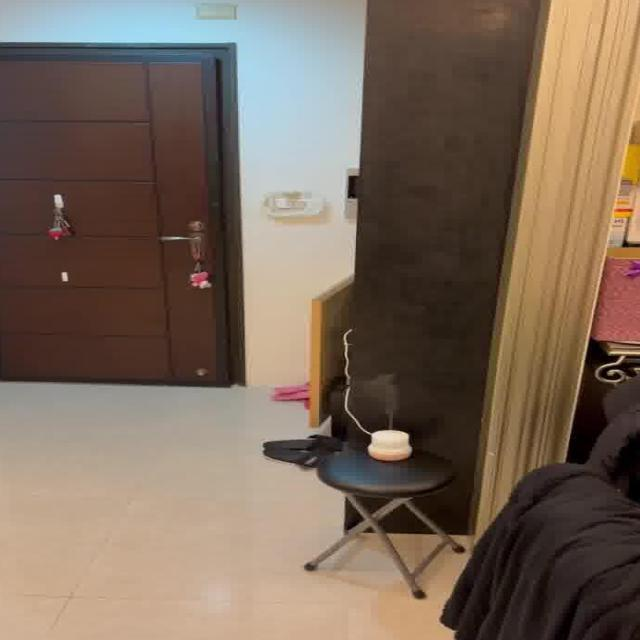fire: (362, 372, 412, 417)
